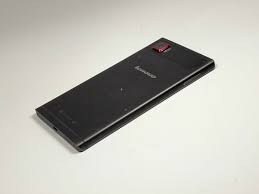lenovo: (29, 33, 217, 153)
